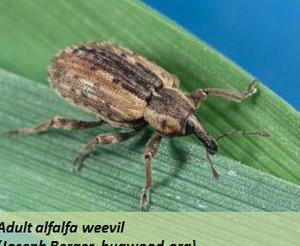weevils: (0, 17, 300, 219)
